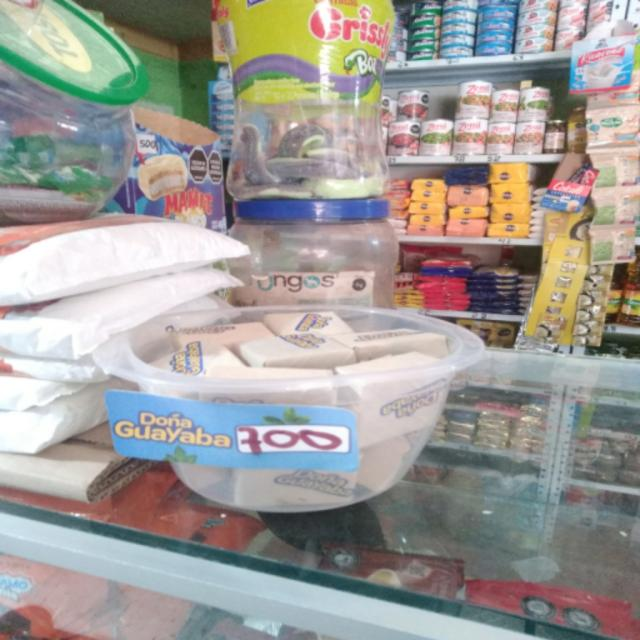Arina_pan: (492, 184, 533, 204), (492, 165, 536, 183), (492, 205, 532, 224), (488, 223, 529, 239), (412, 213, 447, 227), (413, 180, 446, 194), (411, 203, 445, 216), (413, 192, 447, 202)
Guayaba_lonja: (339, 354, 449, 450), (235, 470, 357, 504), (241, 333, 353, 364), (168, 321, 277, 348), (332, 325, 446, 350), (265, 311, 356, 338)
Precio: (235, 417, 355, 466)
